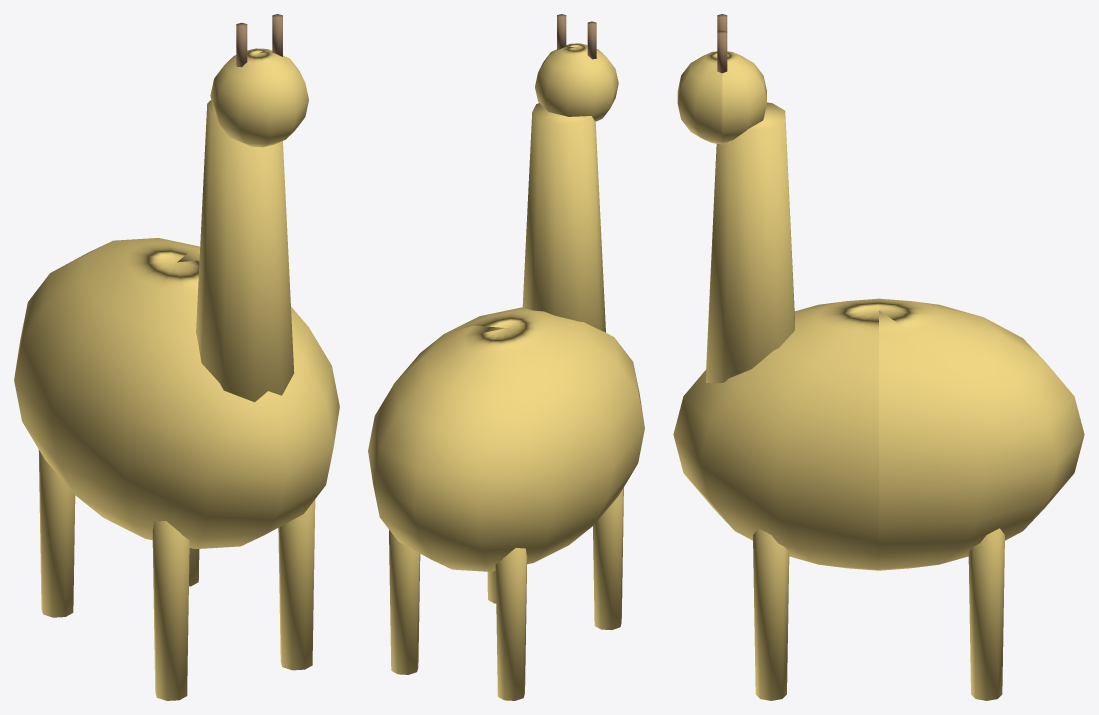
The model's file is 36c0e582-5bdf-402a-8ed2-59a29eb8db02.glb.
The picture shows the model from 3 angles, left to right: view 1: azimuth 30°, elevation 25°; view 2: azimuth 150°, elevation 25°; view 3: azimuth 270°, elevation 25°; orthographic projection. The views are drawn at different scales.
Parts seen in each view (by area): view 1: Generated3DMesh; view 2: Generated3DMesh; view 3: Generated3DMesh.
Part boxes in pixels (x1,y1,x2,y2): Generated3DMesh: [14, 14, 339, 700]; Generated3DMesh: [368, 14, 644, 700]; Generated3DMesh: [673, 14, 1084, 700].
Bounding box in the file's own units: 1.4 × 3.61 × 2.1.
